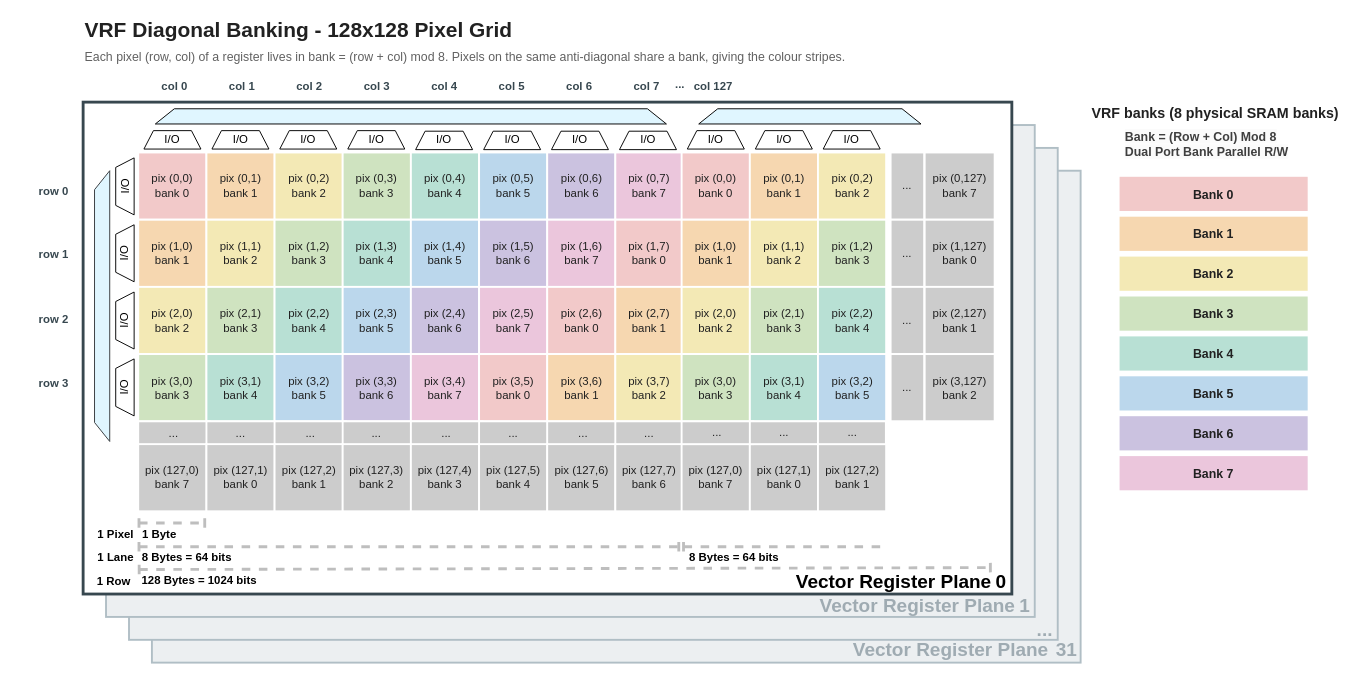
The diagram is 1355 pixels wide and 684 high, and some of its shapes have lost their labels. Here are the shapes that lost their labels. From the top down, the box of each, then its label:
(154, 108, 666, 124): Horizontal Load/Store - 8 Banks Parallel Dual Port 0
(698, 108, 921, 124): Dual Port 1
(94, 170, 110, 441): Vertical Load/Store - 8 Banks Parallel
